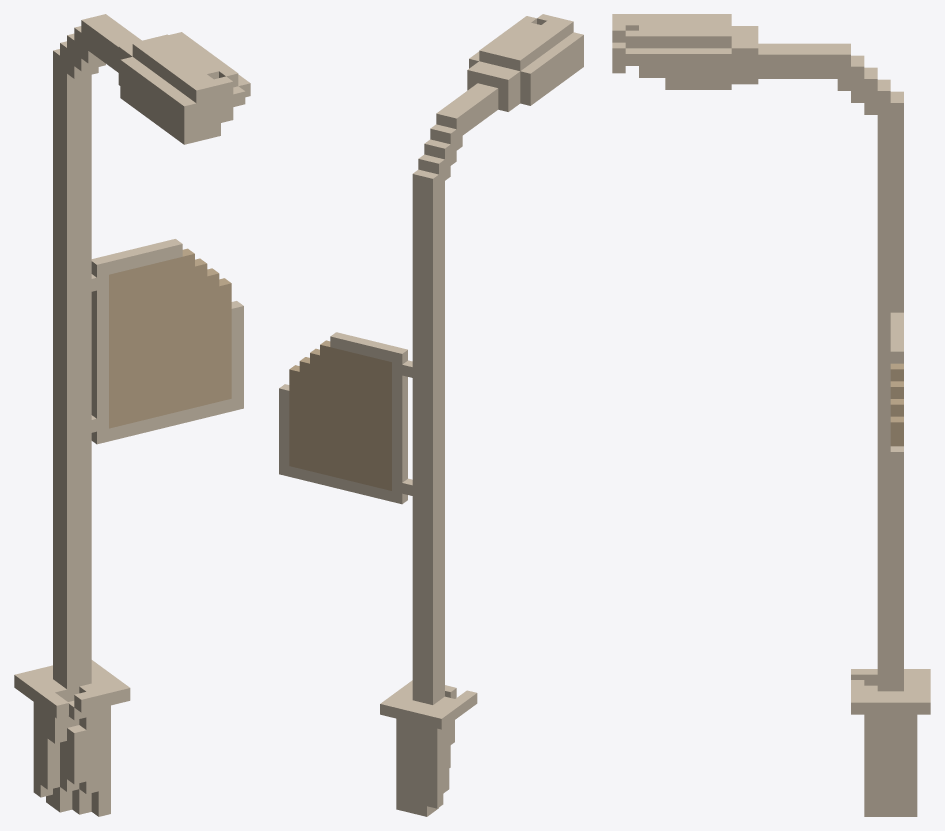
The model's file is Background_A_streetlamp_01.FBX.
3 renders of one model, left to right at view 1: azimuth 30°, elevation 25°; view 2: azimuth 150°, elevation 25°; view 3: azimuth 270°, elevation 25°, orthographic. The views are drawn at different scales.
Visible parts, largest first — view 1: Load_A-24; view 2: Load_A-24; view 3: Load_A-24.
Part boxes in pixels (bbox=[...]): Load_A-24: bbox=[14, 14, 250, 816]; Load_A-24: bbox=[279, 14, 583, 816]; Load_A-24: bbox=[612, 14, 930, 816].
Bounding box in the file's own units: 1.7 × 6.5 × 2.4.
Materials: 1 (1 with a texture image).
